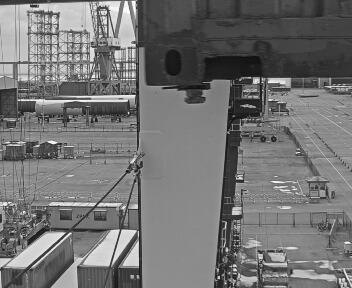twist_lock_1: (165, 158, 225, 197)
